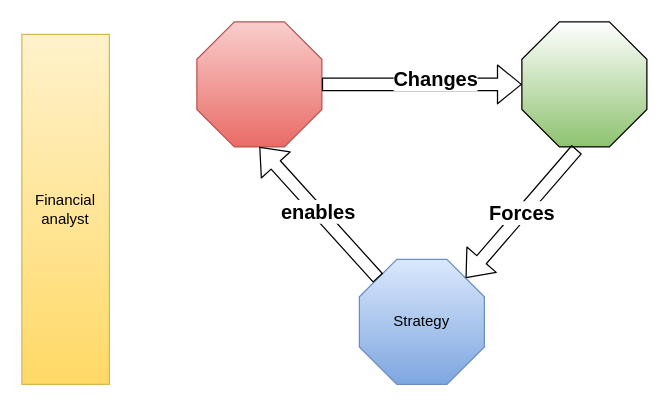
Image size: 669x406. Some labels were removed from this diagram. Here are the shapes that lost their labels. From the top down, the centre of each, then its label:
the point at 259,84: Technolopy
the point at 584,84: Business Environment
